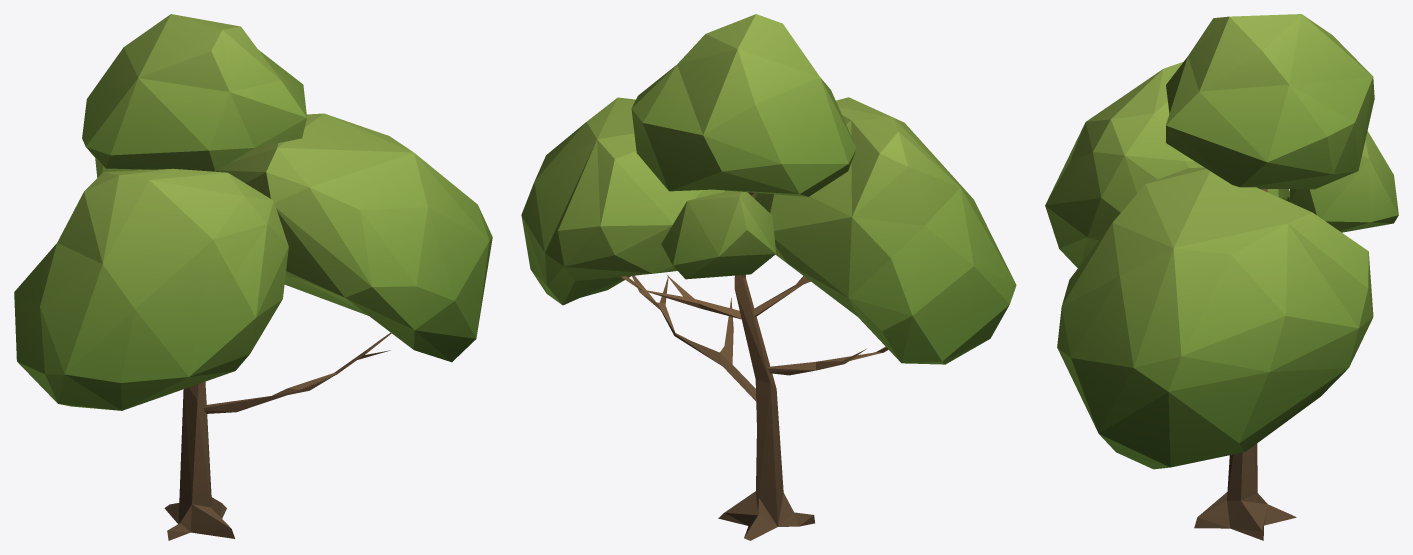
The model's file is tree_10.glb.
3 views of the same model, side by side, from view 1: azimuth 30°, elevation 25°; view 2: azimuth 150°, elevation 25°; view 3: azimuth 270°, elevation 25° (orthographic). The views are drawn at different scales.
Visible parts, largest first — view 1: Spring_Tree_10_LOD1; view 2: Spring_Tree_10_LOD1; view 3: Spring_Tree_10_LOD1.
Boxes of the visible parts, x1,y1,x2,y2 form: Spring_Tree_10_LOD1: (14,14,492,540); Spring_Tree_10_LOD1: (521,14,1016,540); Spring_Tree_10_LOD1: (1045,14,1398,540).
Bounding box in the file's own units: 12.54 × 13.02 × 8.13.
1 material, 1 textured.
